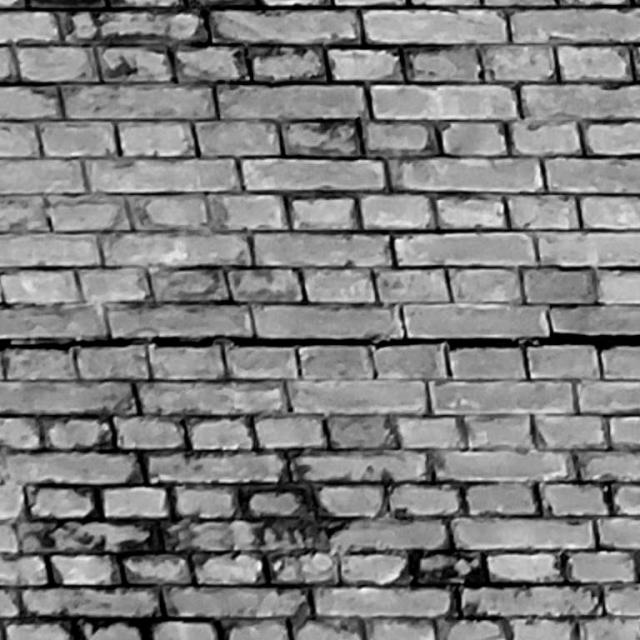crack: (1, 332, 639, 352)
